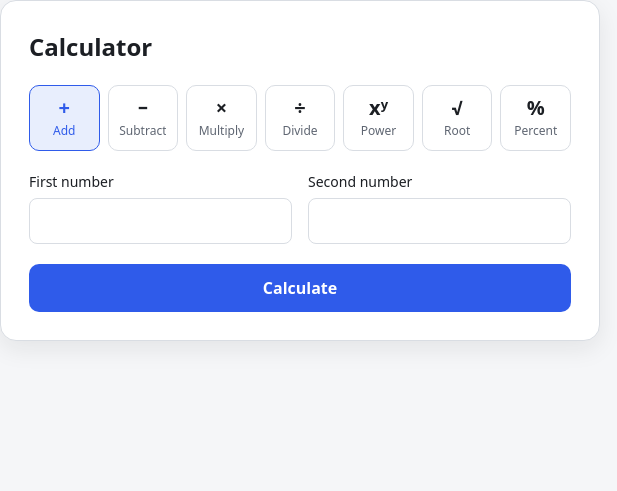
Calculator › calculates and shows the result
The image size is (617, 491).
Type "2" into the number field labelled "First number". click: x=160, y=221
box: [29,198,292,244]
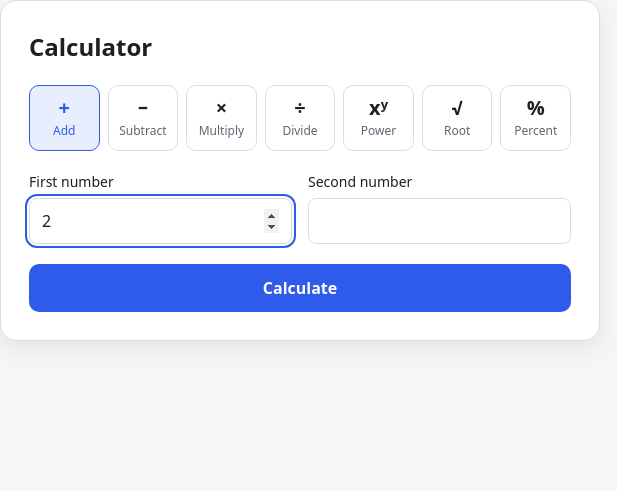
Type "3" into the number field labelled "Second number". click: x=440, y=221
box: [308,198,571,244]
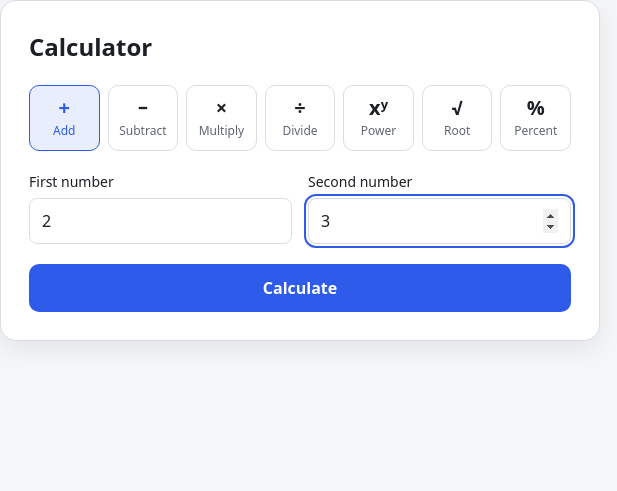
Click the button "Calculate". click: x=300, y=288
box: [29,264,571,312]
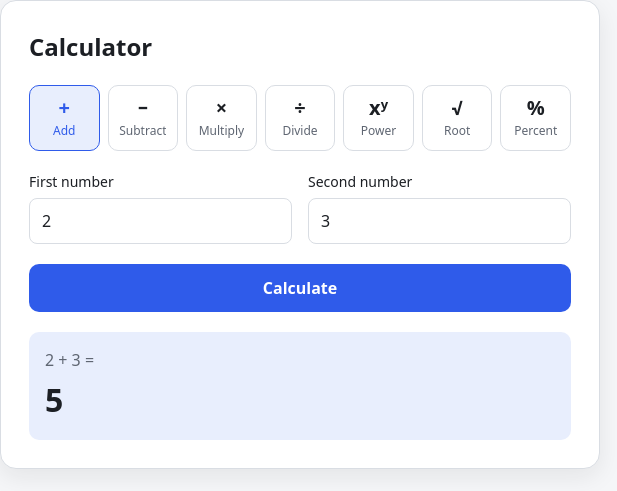
Now the text "2 + 3 =" is shown, box [45,349,94,371]
Now the text "5" is shown, box [45,378,63,421]
